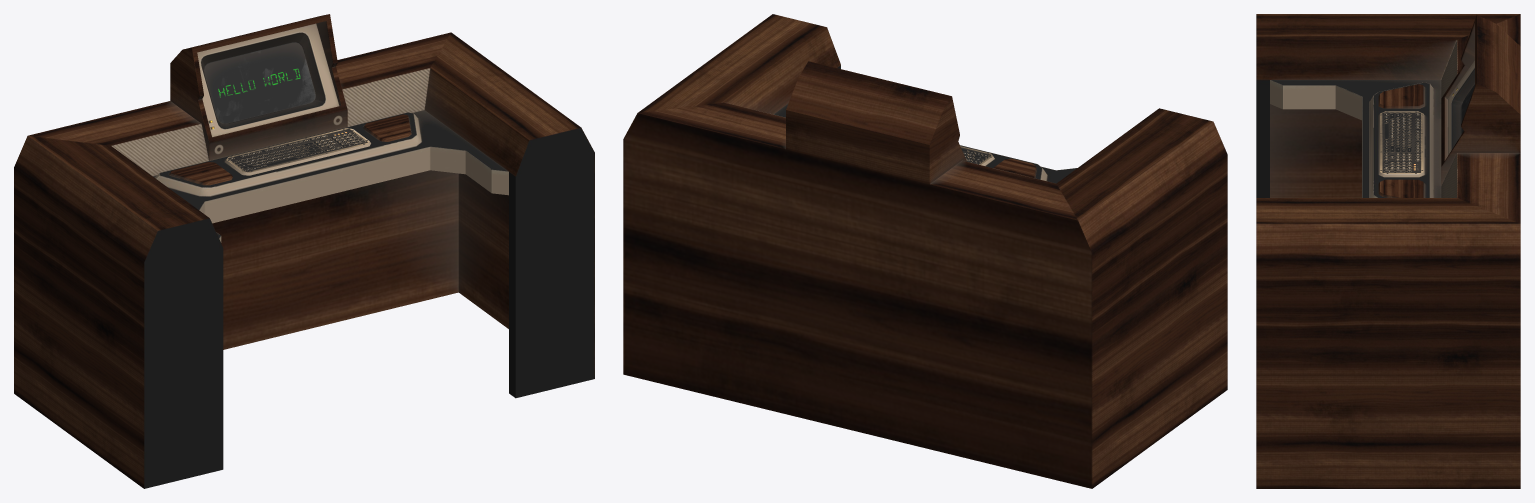
File: retro-computer.glb
The picture shows the model from 3 angles, left to right: view 1: azimuth 30°, elevation 25°; view 2: azimuth 150°, elevation 25°; view 3: azimuth 270°, elevation 25°; orthographic projection. The views are drawn at different scales.
Visible parts, largest first — view 1: Computer; view 2: Computer; view 3: Computer.
Part boxes in pixels (box(x1,y1,x2,y2)): Computer: box(14, 14, 594, 488); Computer: box(623, 14, 1227, 488); Computer: box(1256, 14, 1520, 488).
Bounding box in the file's own units: 100 × 68.62 × 50.
2 materials, 2 textured.
